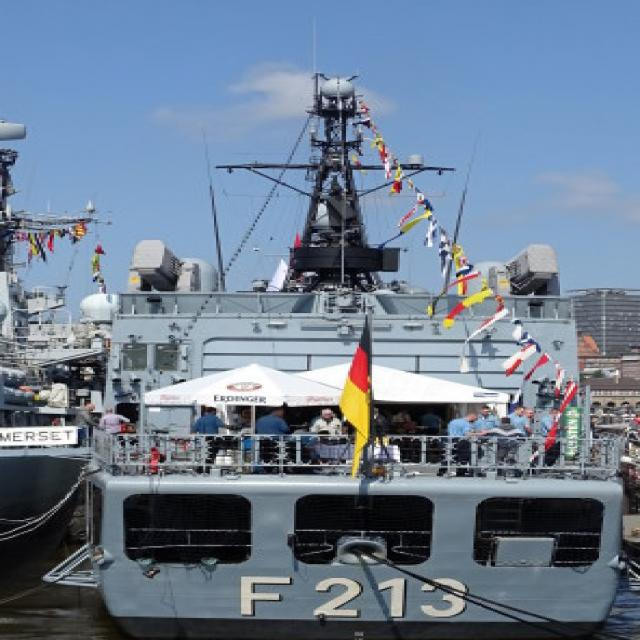Fragata: (72, 67, 640, 640)
